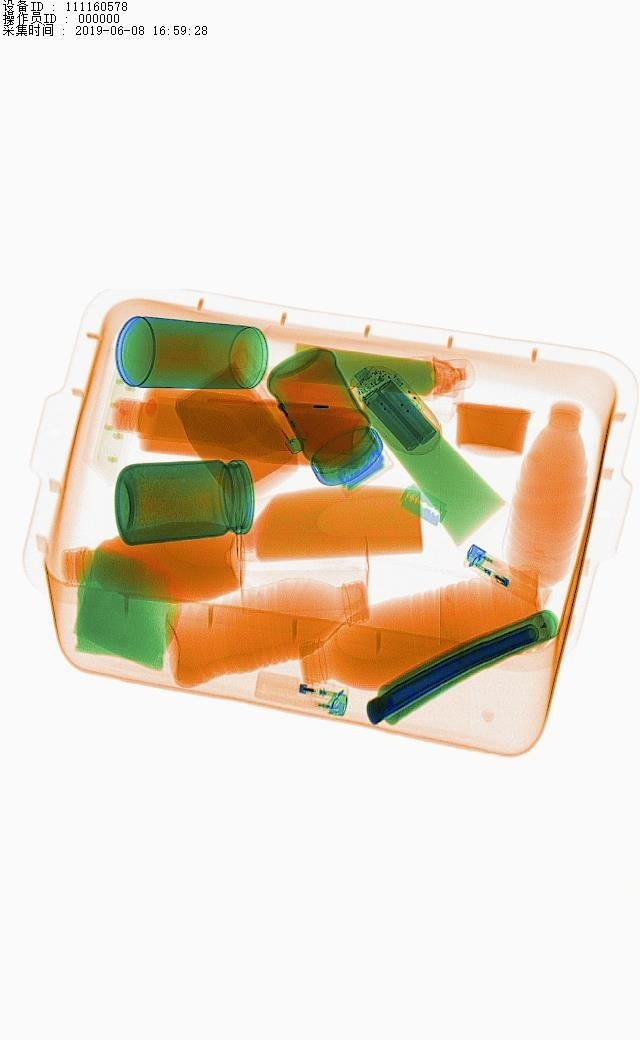NonmetallicFire: (247, 662, 369, 727), (459, 540, 567, 611), (249, 371, 324, 470)
